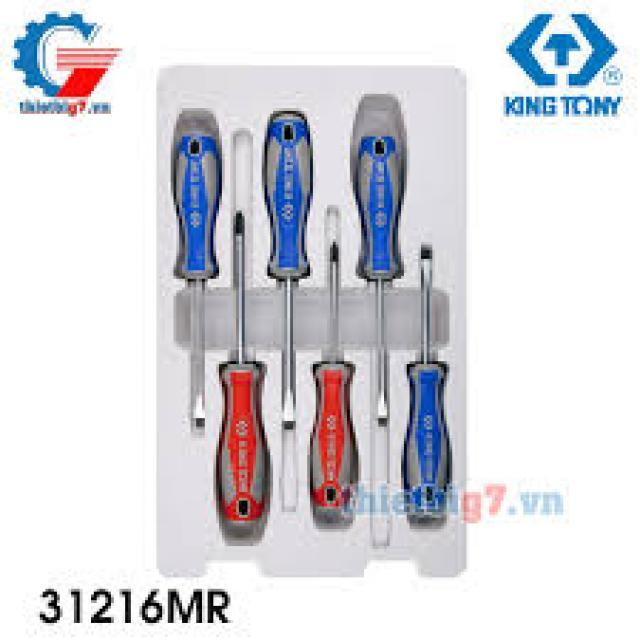screwdriver: (162, 103, 228, 446), (346, 88, 408, 427), (213, 204, 273, 546), (258, 106, 318, 432), (302, 236, 366, 529), (396, 238, 454, 530)
